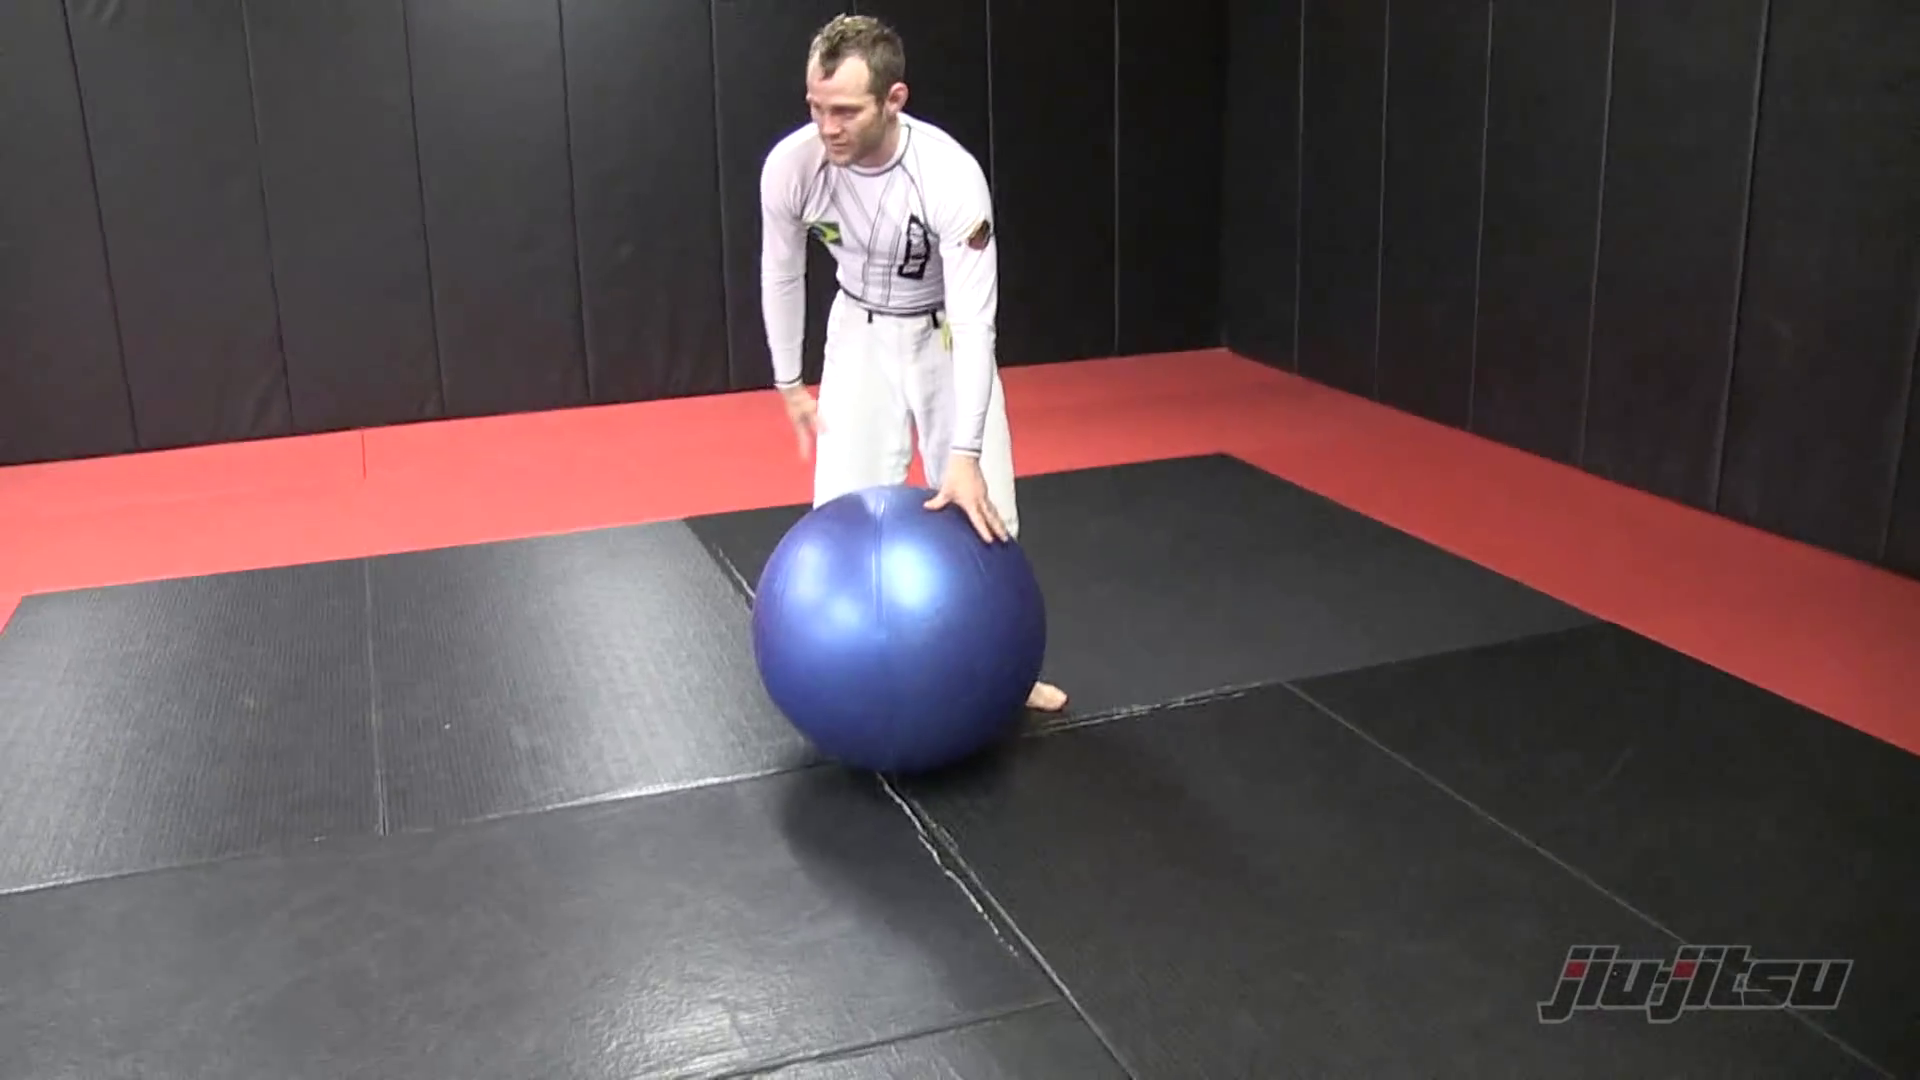yogaball: (742, 473, 1048, 795)
